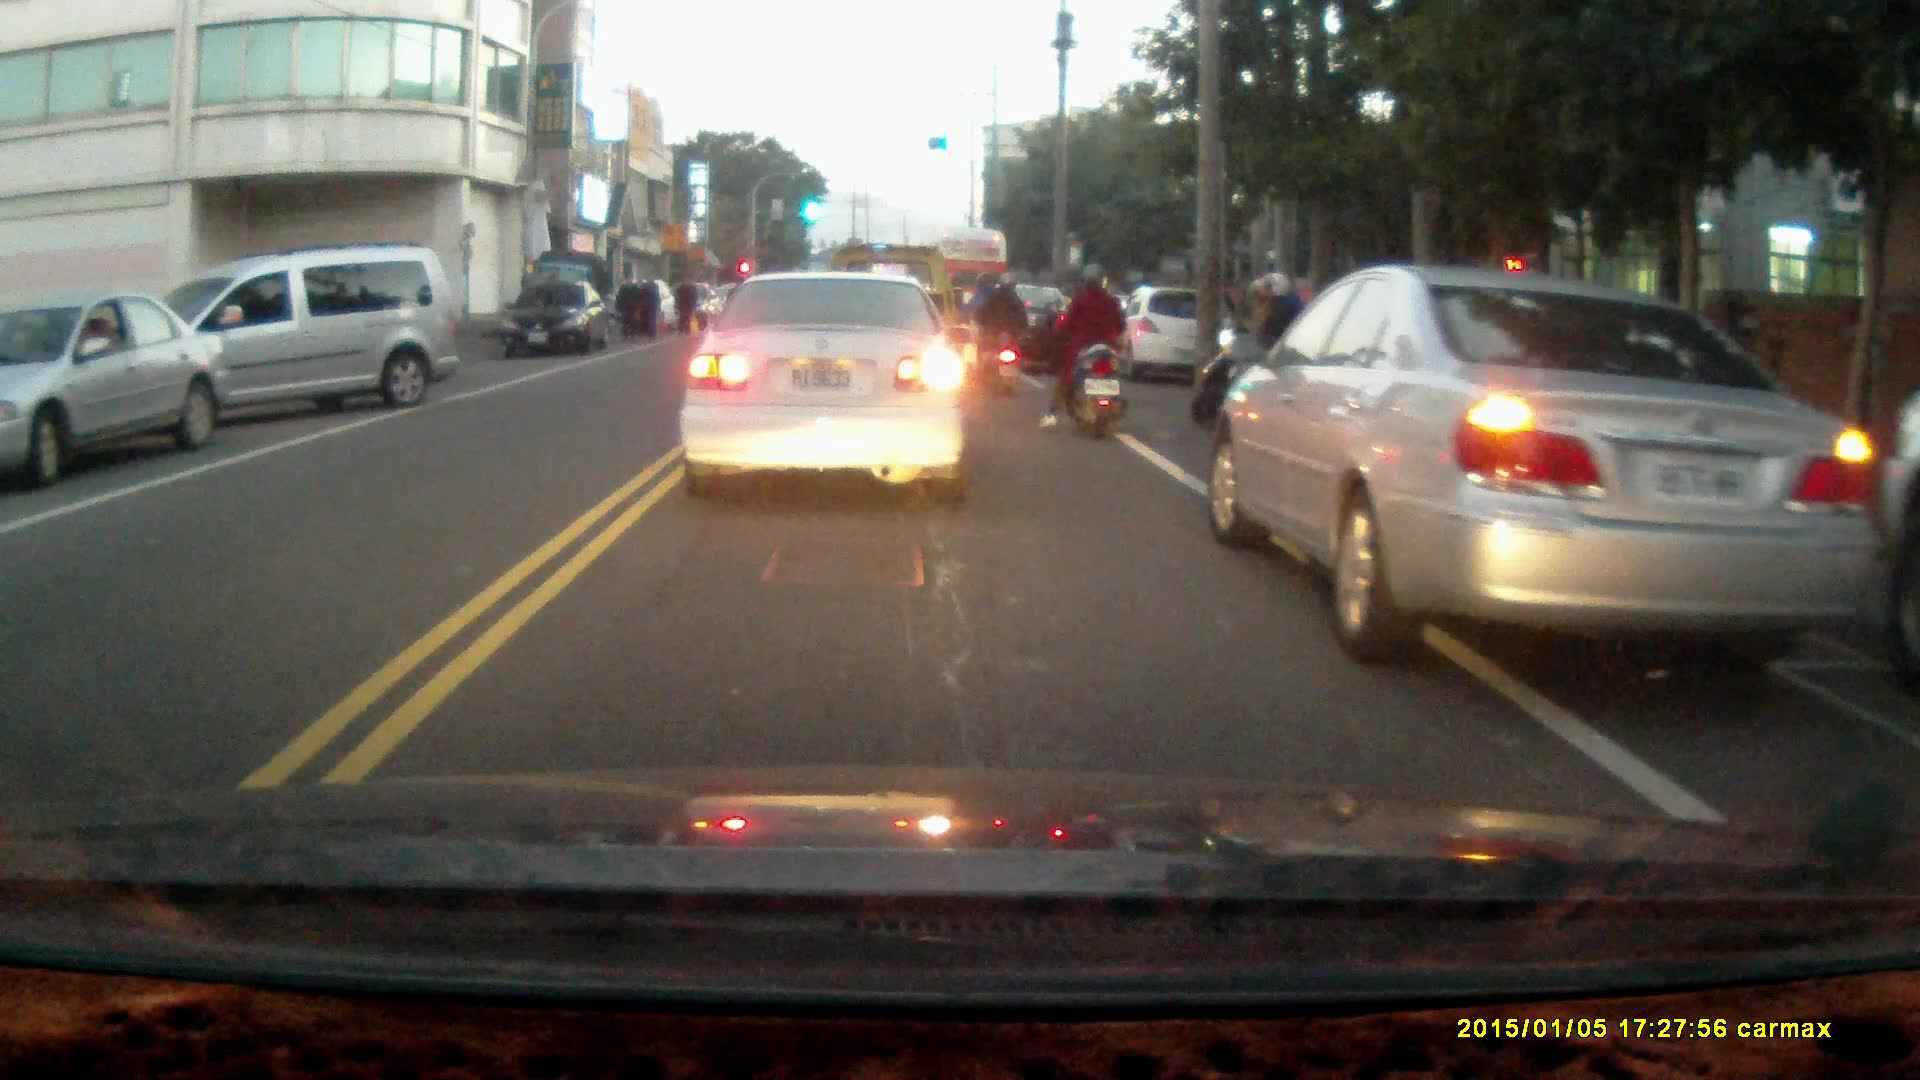pedestrian: (613, 271, 640, 344), (671, 271, 699, 337), (635, 270, 659, 347)
rider: (1192, 270, 1321, 444), (1034, 261, 1129, 440), (960, 268, 1027, 397)
vehicle: (1205, 259, 1882, 667), (680, 272, 975, 509), (113, 250, 460, 442), (1, 296, 236, 489), (967, 283, 1112, 383), (1117, 290, 1226, 389), (505, 280, 613, 360)
